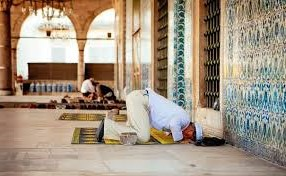sujud: (95, 88, 203, 142)
